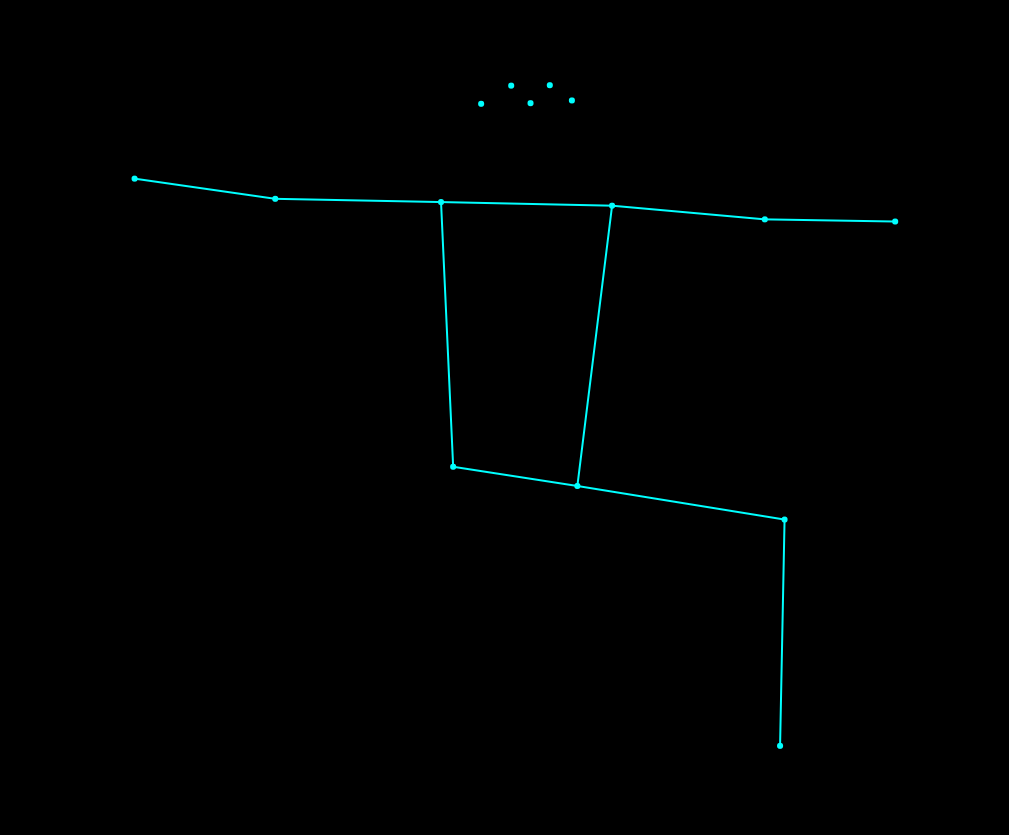warrior_2: (128, 74, 910, 753)
